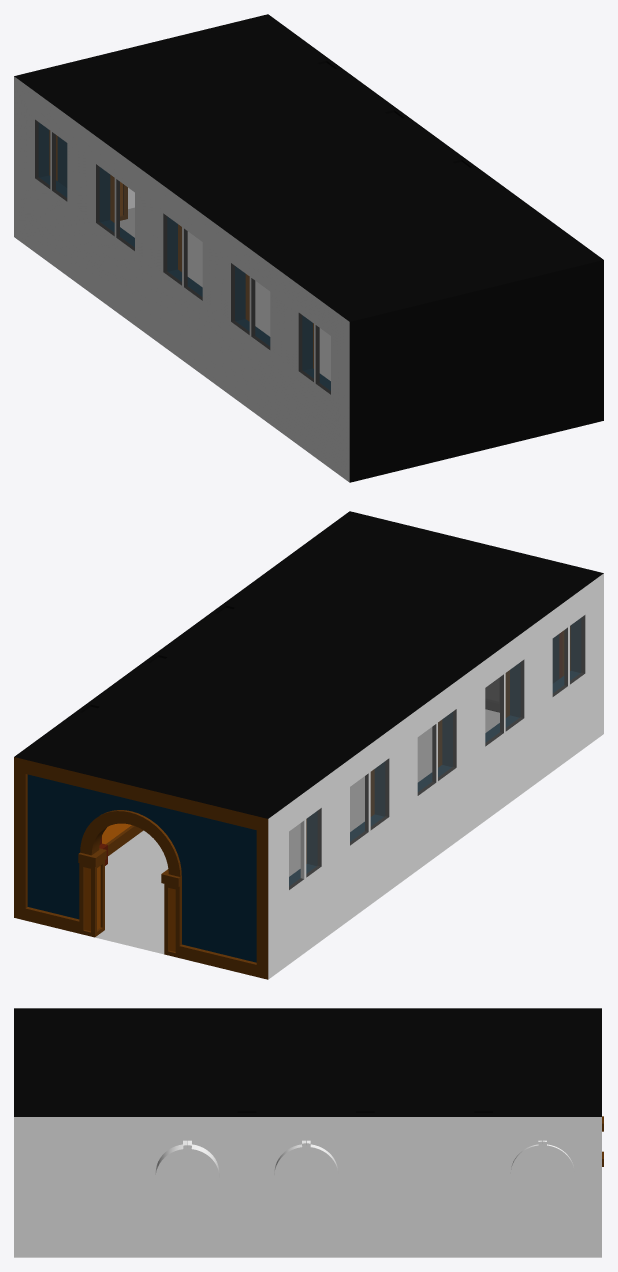
Rendered from Entrance_Corridor.fbx.
3 renders of one model, top to bottom at view 1: azimuth 30°, elevation 25°; view 2: azimuth 150°, elevation 25°; view 3: azimuth 270°, elevation 25°, orthographic. The views are drawn at different scales.
Parts seen in each view (by area): view 1: Model; view 2: Model; view 3: Model.
Part boxes in pixels (bbox=[...]): Model: bbox=[14, 14, 603, 482]; Model: bbox=[14, 511, 603, 979]; Model: bbox=[14, 1008, 603, 1257].
Size of the model in its own units: 6.89 by 3.99 by 15.15.
